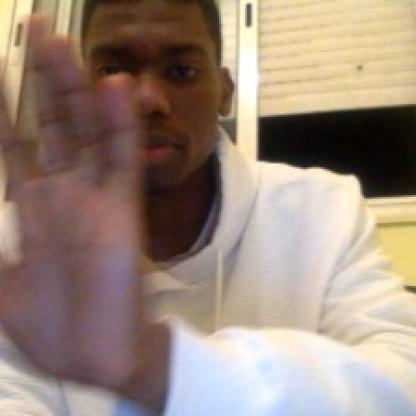TURN RIGHT: (0, 3, 166, 415)
